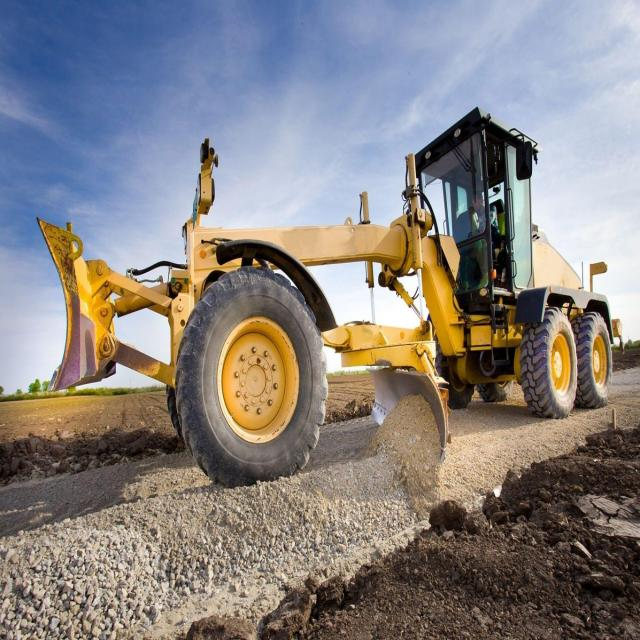Grader: (41, 84, 630, 503)
